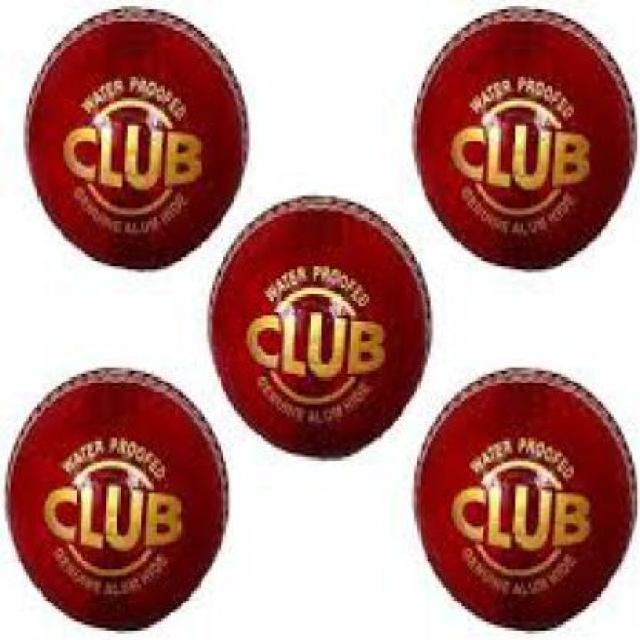ball: (0, 0, 273, 281)
